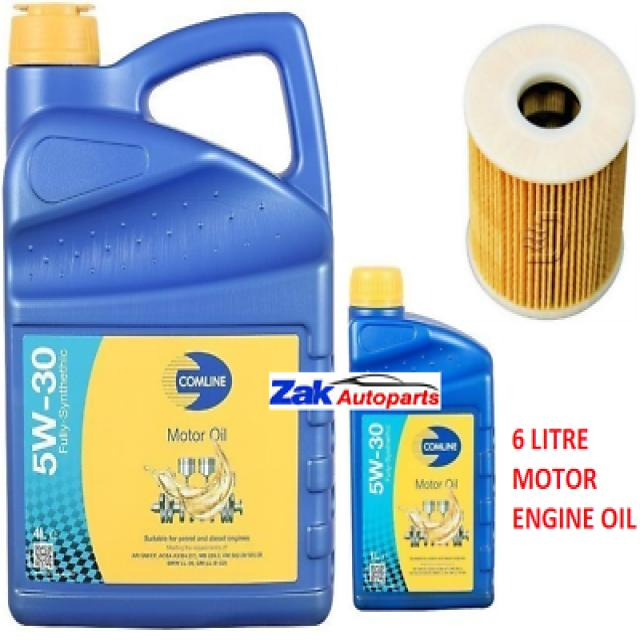motor_oil: (2, 2, 335, 630), (345, 262, 499, 617)
oil_filter: (460, 17, 636, 321)
